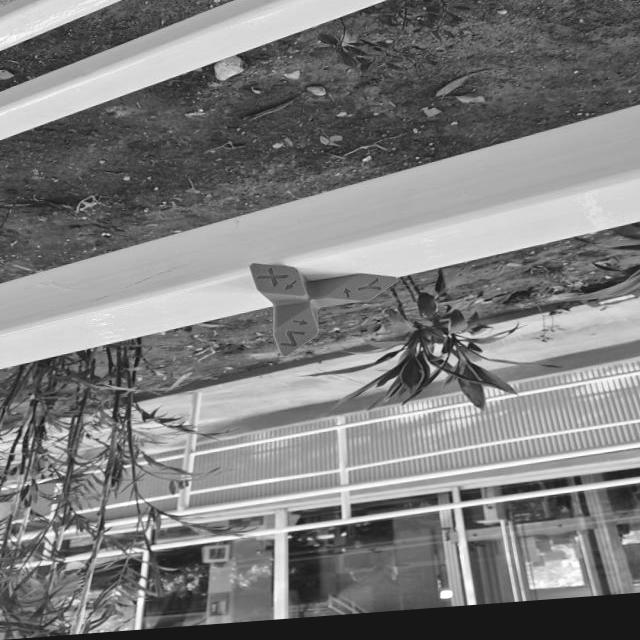eje: (246, 251, 399, 361)
